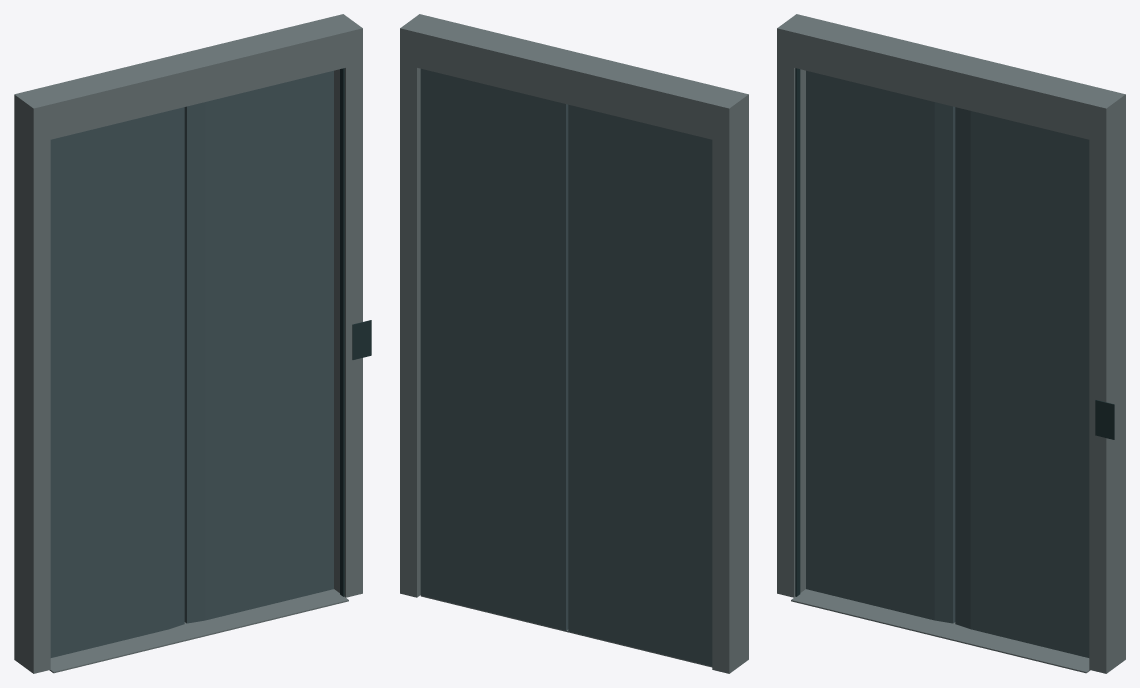
3 renders of one model, left to right at view 1: azimuth 30°, elevation 25°; view 2: azimuth 150°, elevation 25°; view 3: azimuth 330°, elevation 25°, orthographic.
Visible parts, largest first — view 1: EL-A_Leaf_02, EL-A_Leaf_01, EL-A_FrameL, EL-A_Head, EL-A_FrameR, EL-A_Threshold, EL-A_SealR, EL-A_DarkTouch; view 2: EL-A_Leaf_02, EL-A_Leaf_01, EL-A_FrameL, EL-A_Head, EL-A_FrameR; view 3: EL-A_Leaf_01, EL-A_Leaf_02, EL-A_FrameR, EL-A_Head, EL-A_FrameL, EL-A_Threshold, EL-A_SealL, EL-A_DarkTouch.
Part boxes in pixels (box(x1,y1,x2,y2)): EL-A_Leaf_02: box(184, 70, 333, 623); EL-A_Leaf_01: box(50, 107, 184, 657); EL-A_FrameL: box(14, 130, 50, 673); EL-A_Head: box(14, 14, 362, 143); EL-A_FrameR: box(334, 63, 362, 597); EL-A_Threshold: box(49, 589, 348, 673); EL-A_SealR: box(340, 68, 344, 596); EL-A_DarkTouch: box(352, 320, 371, 359); EL-A_Leaf_02: box(420, 68, 568, 630); EL-A_Leaf_01: box(568, 104, 712, 666); EL-A_FrameL: box(712, 130, 748, 673); EL-A_Head: box(400, 14, 748, 143); EL-A_FrameR: box(400, 63, 420, 597); EL-A_Leaf_01: box(806, 70, 955, 623); EL-A_Leaf_02: box(955, 107, 1089, 657); EL-A_FrameR: box(1089, 130, 1125, 673); EL-A_Head: box(777, 14, 1125, 143); EL-A_FrameL: box(777, 63, 805, 597); EL-A_Threshold: box(791, 589, 1090, 673); EL-A_SealL: box(795, 68, 800, 596); EL-A_DarkTouch: box(1095, 400, 1114, 439).
Bounding box in the file's own units: 1.6 × 2.57 × 0.185.
